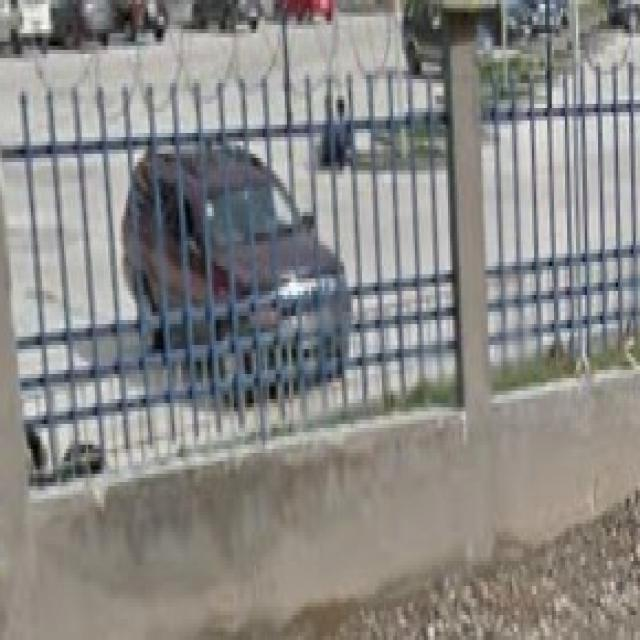Car: (111, 126, 347, 406)
